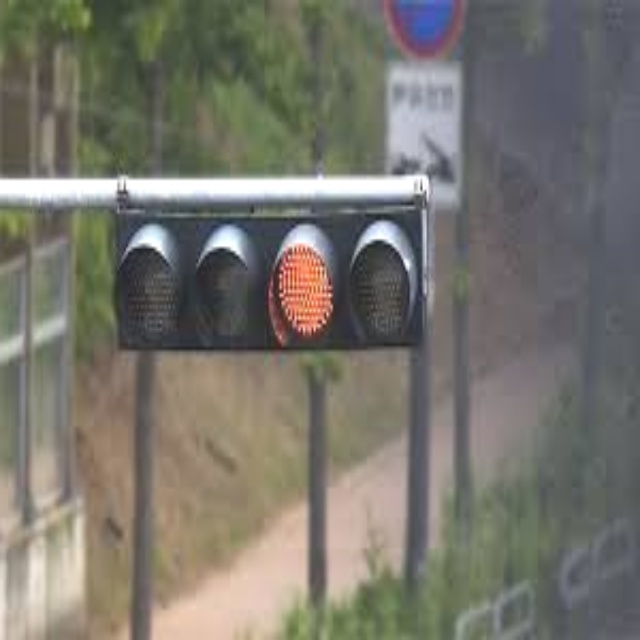yellow_light: (276, 251, 335, 340)
